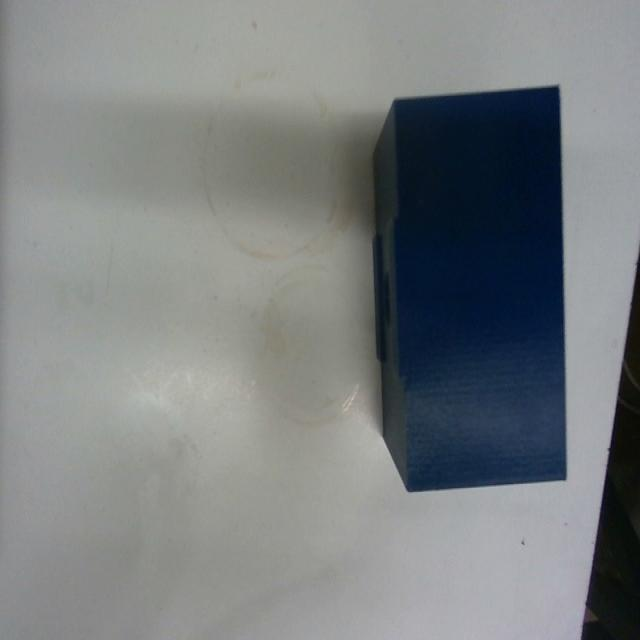Blue Cuboid: (369, 80, 568, 493)
